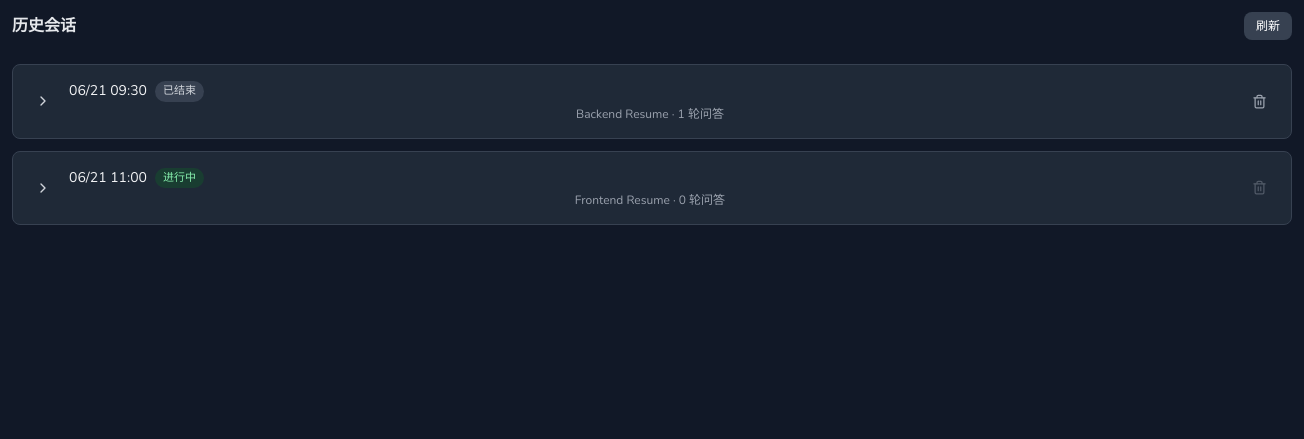
Test: TabHistory › expands a session and renders its turns
Click the button without text next to "06/21 09:30".
click(43, 101)  # box [29,87,57,115]
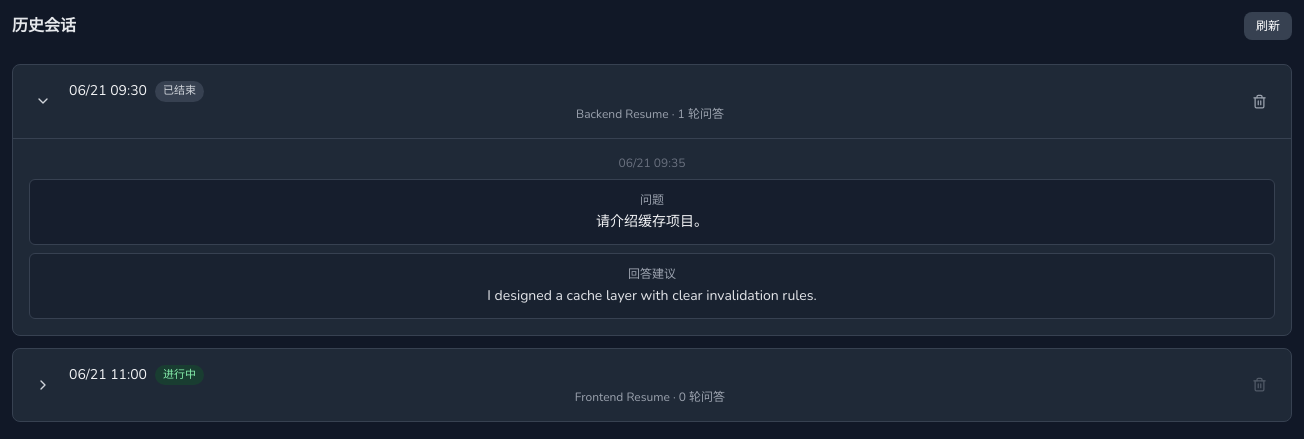
Check: the text "请介绍缓存项目。" is shown, box [596,212,708,230]
Check: the text "I designed a cache layer with clear invalidation rules." is shown, box [487,286,817,304]
